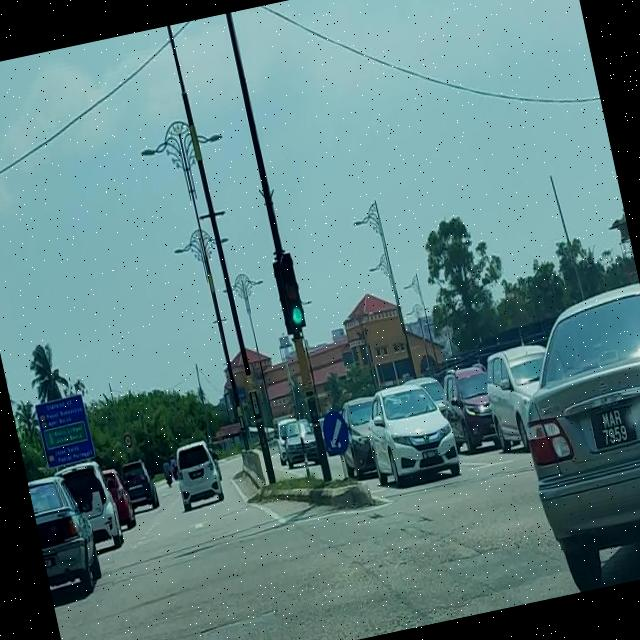green_light: (276, 252, 306, 328)
